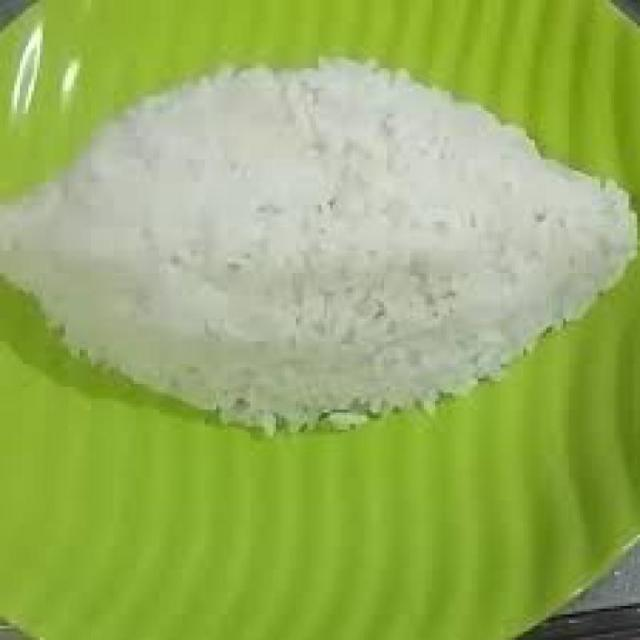nasi_putih: (0, 61, 640, 440)
